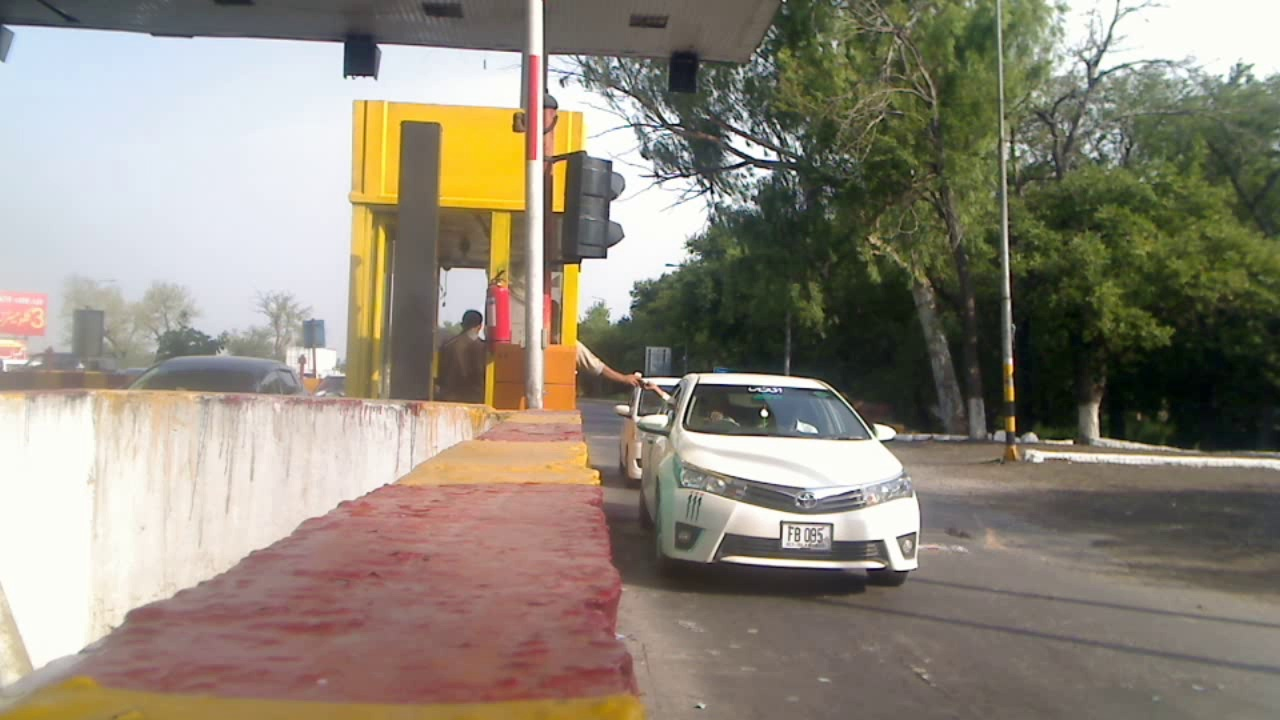Number Plate (Car): (783, 522, 830, 549)
